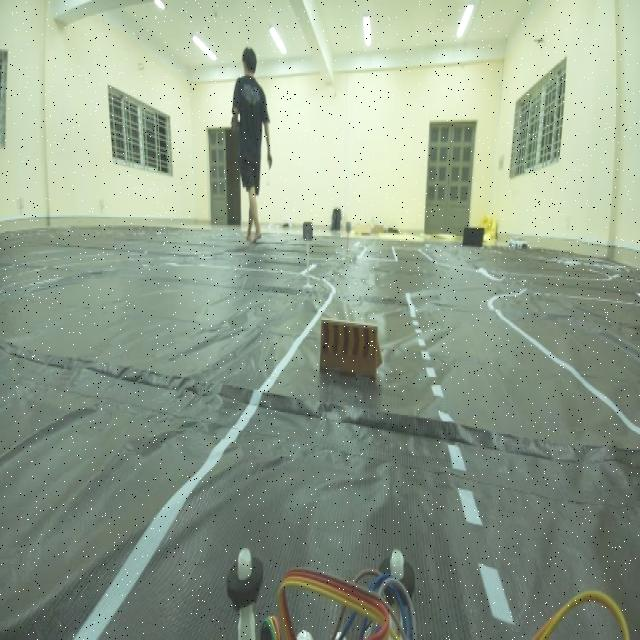roadblock: (316, 301, 394, 394)
